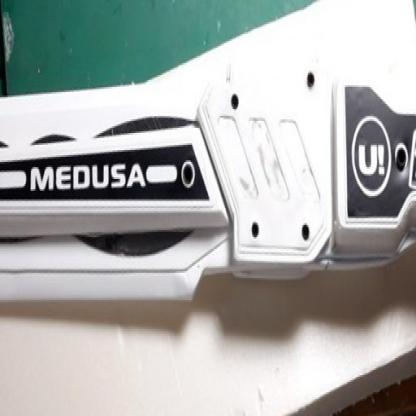knife: (0, 79, 415, 317)
